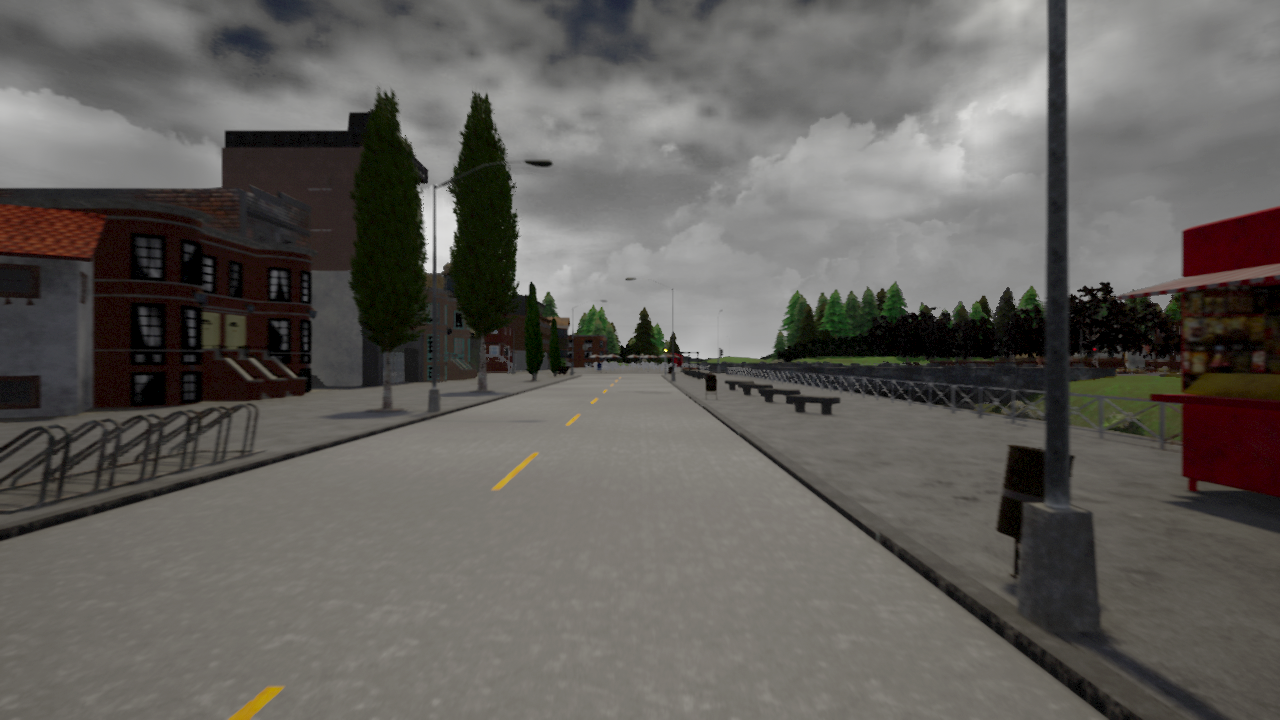yellow: (663, 345, 668, 357)
